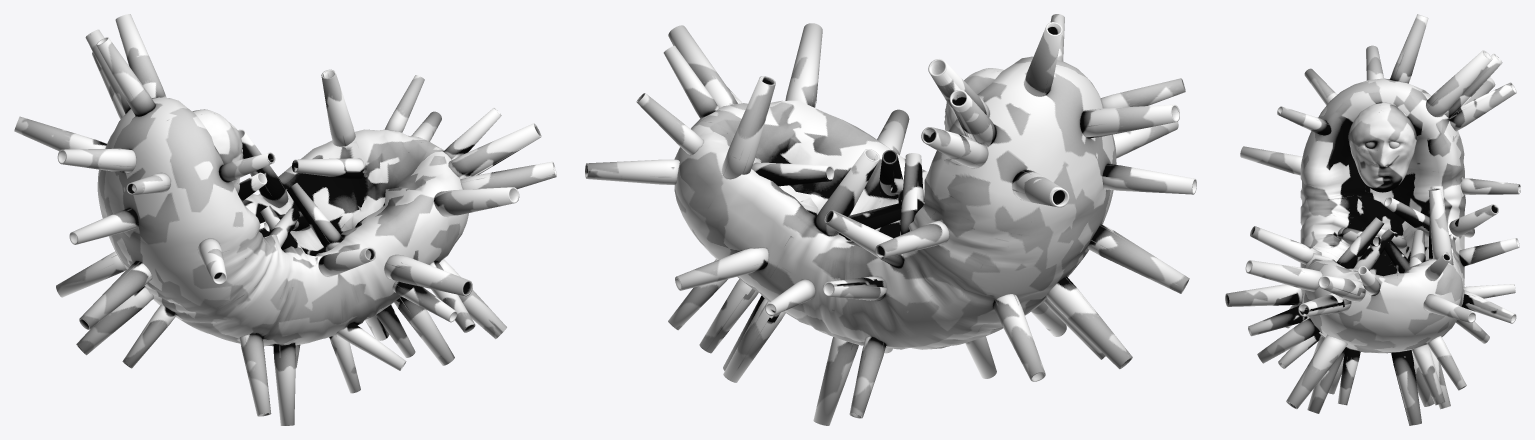
The model's file is centerpiece.glb.
3 renders of one model, left to right at view 1: azimuth 30°, elevation 25°; view 2: azimuth 150°, elevation 25°; view 3: azimuth 270°, elevation 25°, orthographic. The views are drawn at different scales.
Visible parts, largest first — view 1: Cube; view 2: Cube; view 3: Cube.
Boxes of the visible parts, x1,y1,x2,y2 form: Cube: (14,14,556,425); Cube: (585,14,1196,425); Cube: (1225,14,1520,425).
Size of the model in its own units: 5.1 by 4.04 by 3.43.
Materials: 1 (1 with a texture image).
